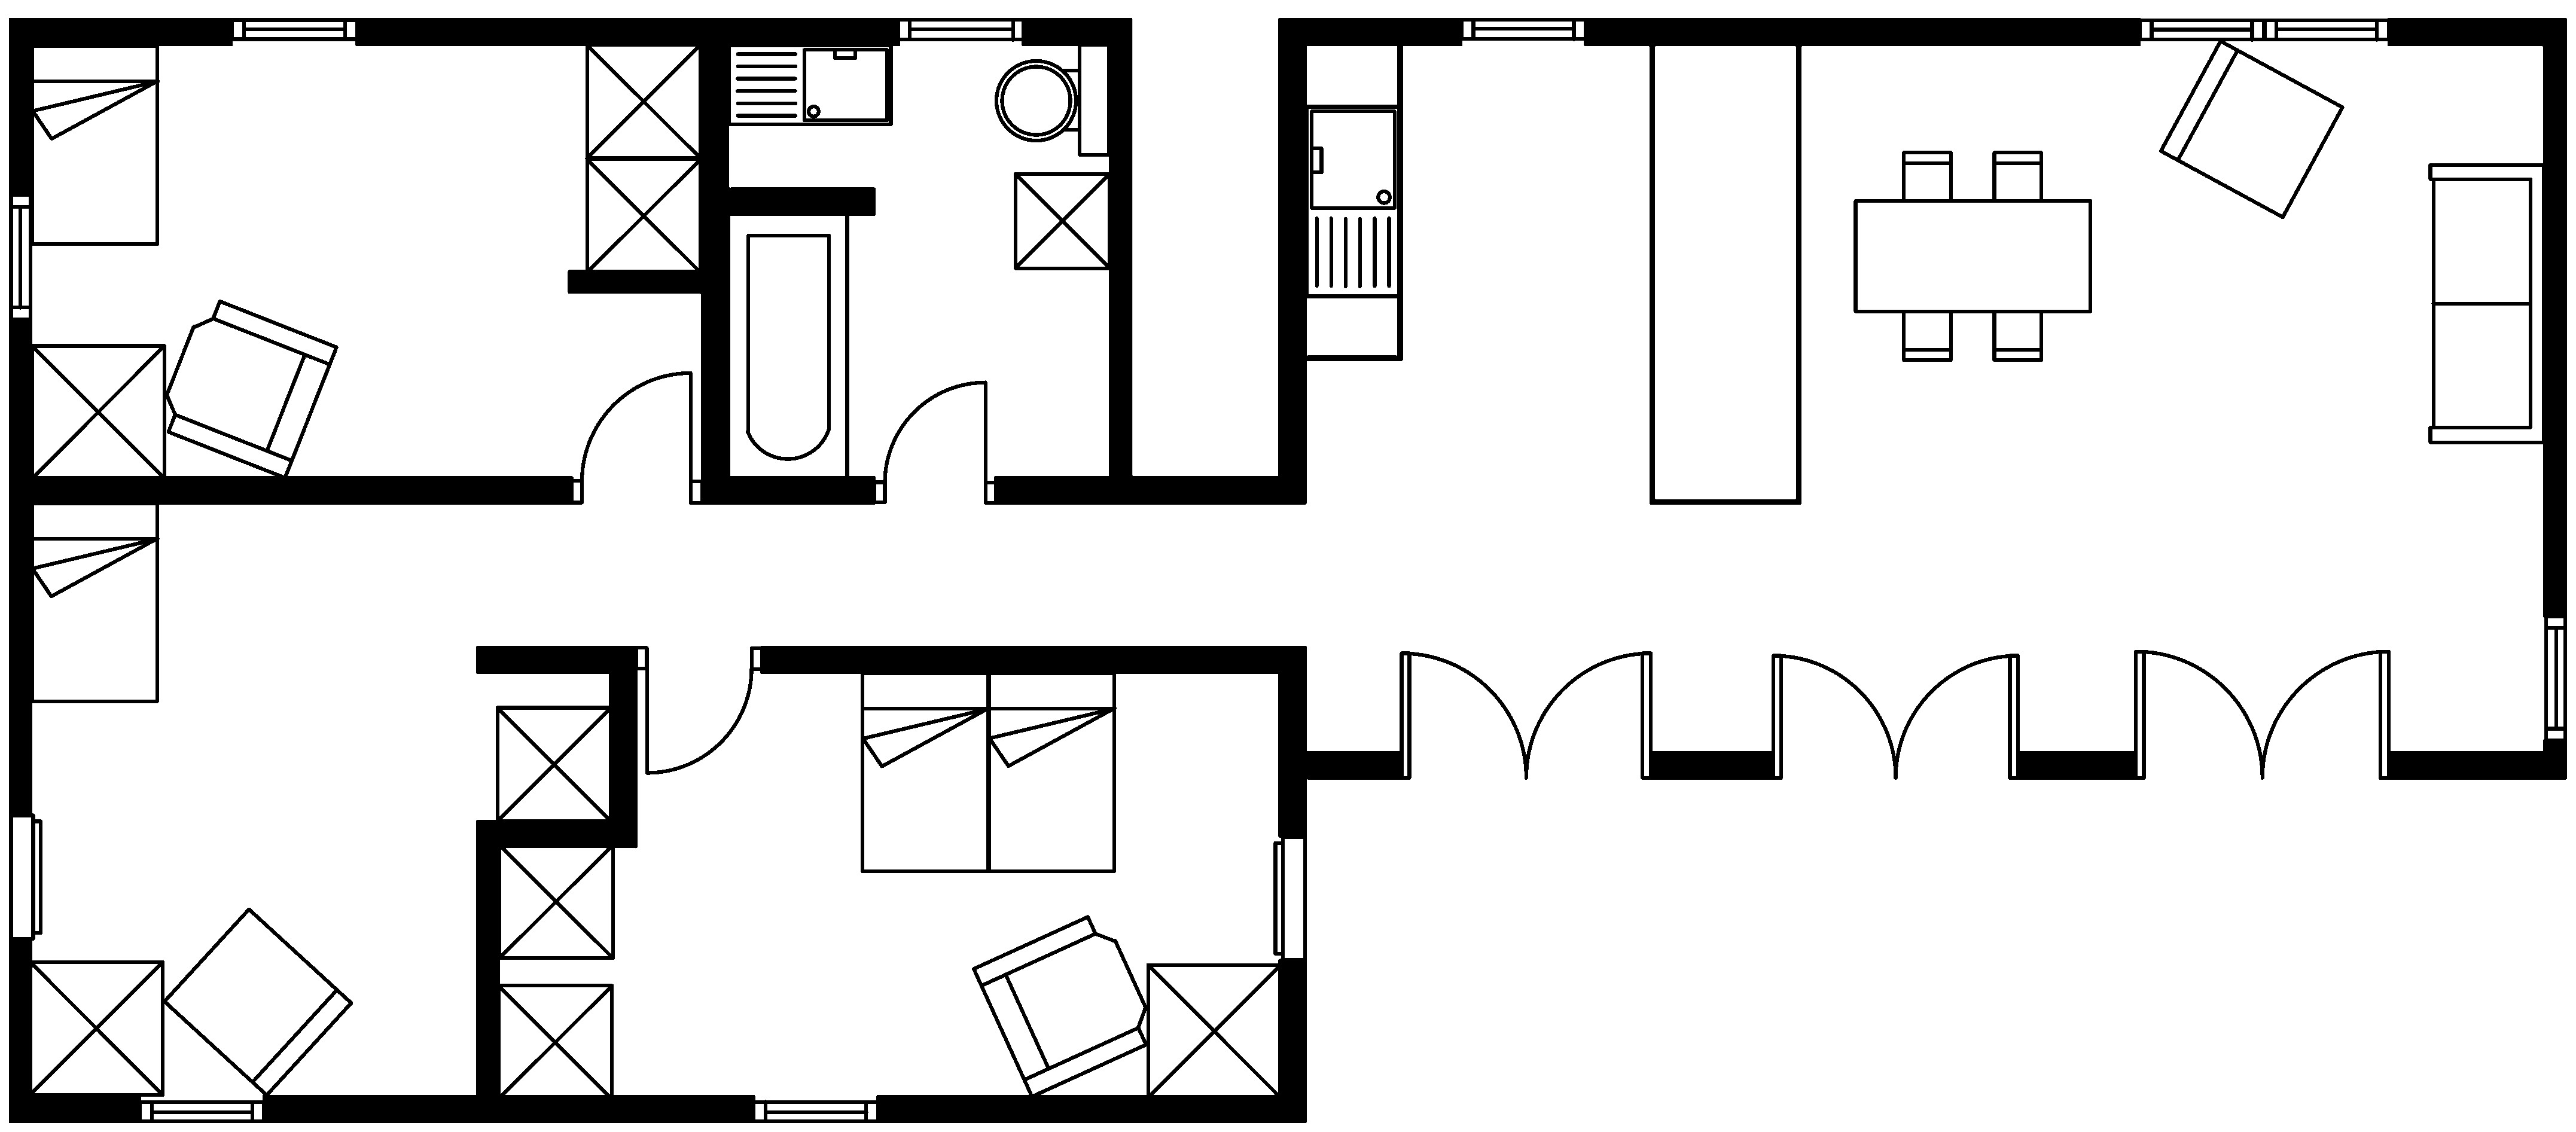armchair: (971, 915, 1148, 1099), (163, 299, 338, 480)
bed: (28, 501, 159, 703), (859, 670, 991, 872), (986, 670, 1117, 872), (30, 43, 159, 246)
coffee_table: (26, 959, 164, 1097), (1145, 963, 1283, 1099), (30, 343, 166, 480), (494, 982, 614, 1101), (583, 41, 702, 161), (494, 705, 613, 823), (496, 841, 614, 959), (585, 156, 702, 274), (1012, 171, 1112, 271)
dining_table: (1853, 150, 2093, 361)
large_sink: (994, 41, 1111, 156)
large_sofa: (2428, 163, 2546, 444)
sink: (1304, 104, 1401, 297), (726, 43, 894, 127)
small_sofa: (161, 907, 353, 1097), (2159, 38, 2344, 219)
tub: (726, 210, 849, 483)
